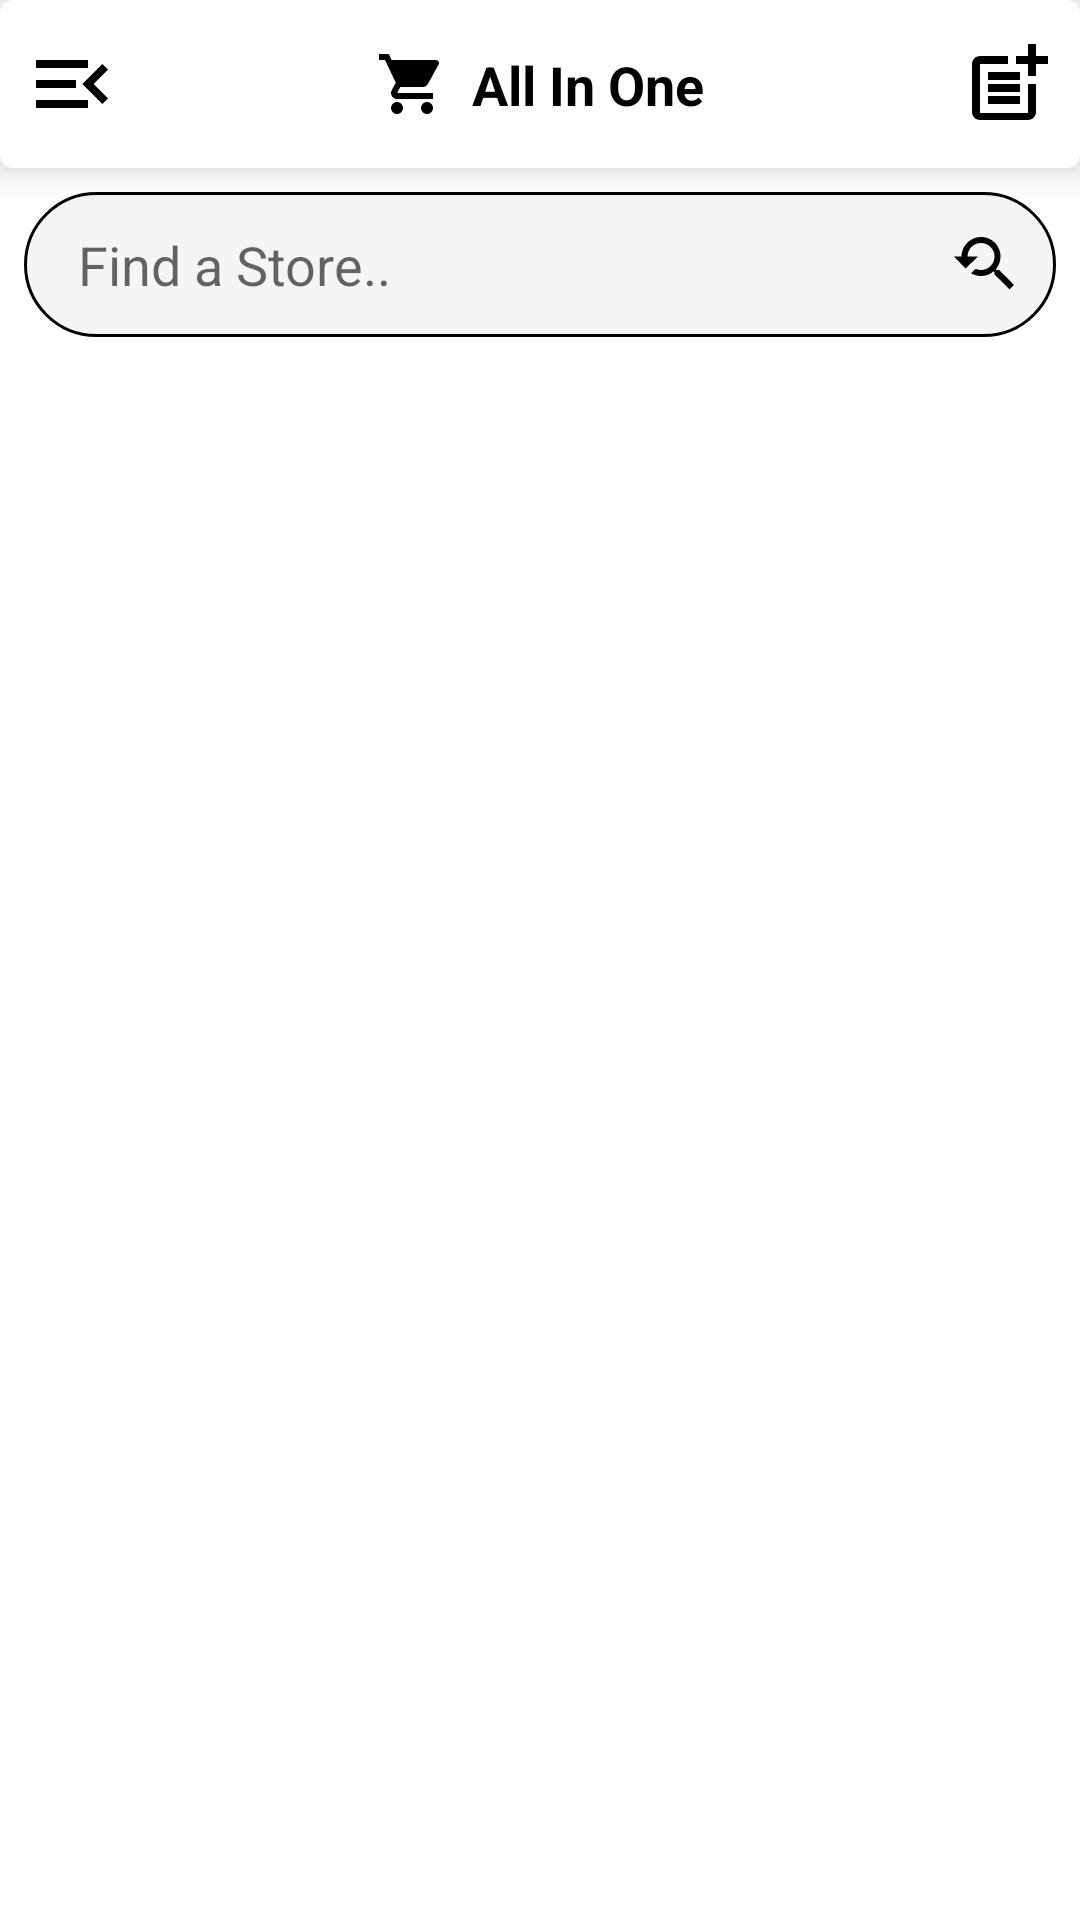

Point at icon controls on the screen. Image size 1080px×1920px, points as [x,y].
open: [72,84]
post add: [1010,82]
